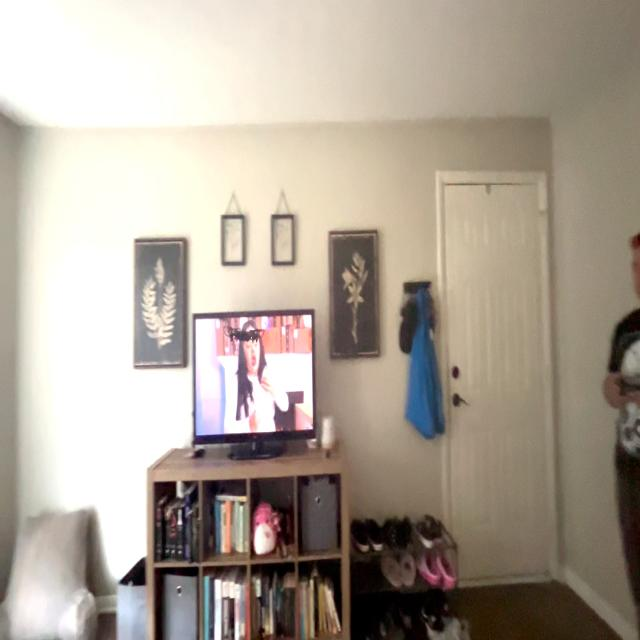drone: (217, 310, 271, 354)
